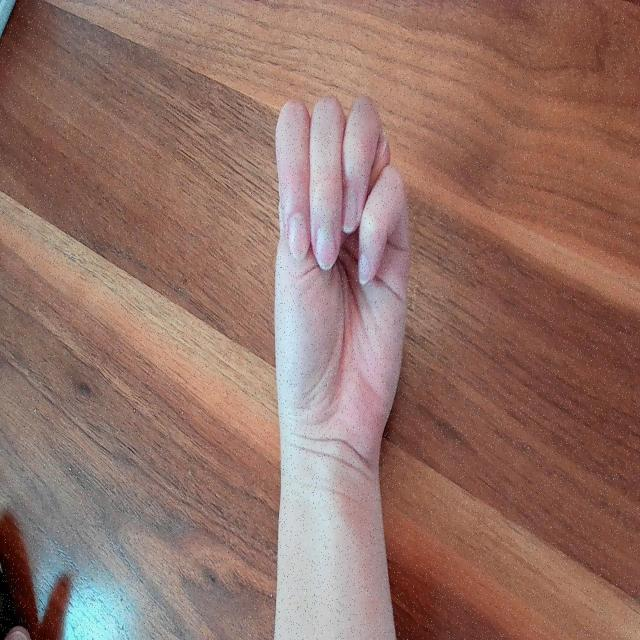M: (269, 77, 413, 482)
